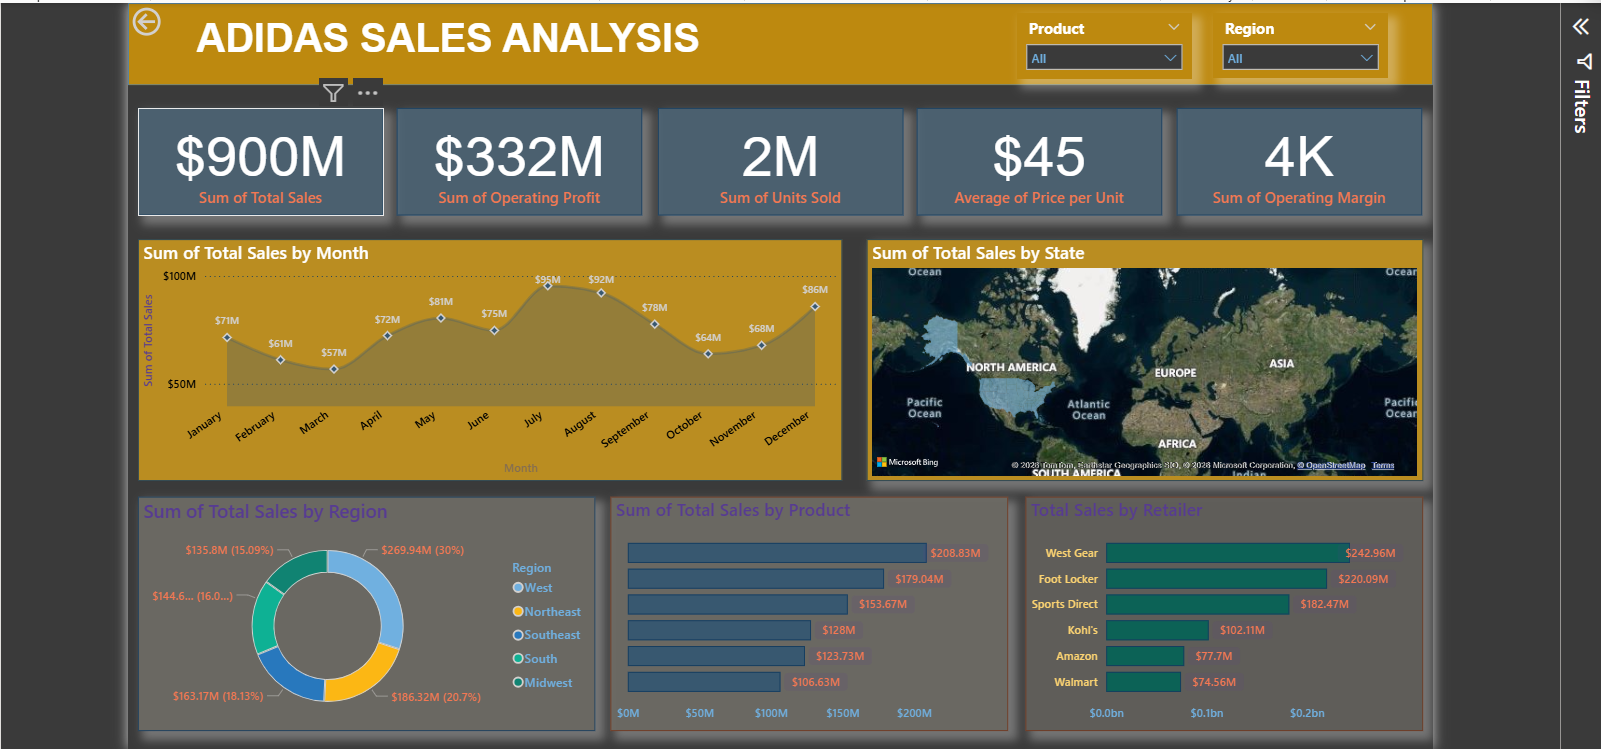

The page's visual inventory and layout, read from the dashboard file:
{"tool":"powerbi","page":{"name":"Page 1","canvas":[1400,800],"ordinal":0},"visuals":[{"type":"shape","box":[0,0,1399.5,88.3],"z":0},{"type":"textbox","box":[67.9,8.2,618.2,72],"z":1000},{"type":"actionButton","box":[0,0,100,40],"z":2000},{"type":"card","fields":{"Values":["Sum(Data Sales Adidas.Total Sales)"]},"box":[10.9,112.8,263.6,115.5],"z":3000},{"type":"card","fields":{"Values":["Sum(Data Sales Adidas.Operating Profit)"]},"box":[288,112.8,263.6,115.5],"z":4000},{"type":"card","fields":{"Values":["Sum(Data Sales Adidas.Units Sold)"]},"box":[567.9,112.8,263.6,115.5],"z":5000},{"type":"card","fields":{"Values":["Avg(Data Sales Adidas.Price per Unit)"]},"box":[846.5,112.8,263.6,115.5],"z":6000},{"type":"card","fields":{"Values":["Sum(Data Sales Adidas.Operating Margin)"]},"box":[1125,112.8,263.6,115.5],"z":7000},{"type":"areaChart","fields":{"Category":["Data Sales Adidas.Invoice Date.Variation.Date Hierarchy.Month"],"Y":["Sum(Data Sales Adidas.Total Sales)"]},"box":[10.9,252.7,755.4,259.5],"z":8000},{"type":"filledMap","fields":{"Category":["Data Sales Adidas.State"]},"box":[792.1,252.7,596.5,259.5],"z":9000},{"type":"donutChart","fields":{"Category":["Data Sales Adidas.Region"],"Y":["Sum(Data Sales Adidas.Total Sales)"]},"box":[10.9,529.9,490.5,251.4],"z":10000},{"type":"clusteredBarChart","fields":{"Y":["Sum(Data Sales Adidas.Total Sales)"],"Category":["Data Sales Adidas.Product"]},"box":[517.7,529.9,426.6,251.4],"z":11000},{"type":"clusteredBarChart","title":"Total Sales by Retailer","fields":{"Y":["Sum(Data Sales Adidas.Total Sales)"],"Category":["Data Sales Adidas.Retailer"]},"box":[962,529.9,426.6,251.4],"z":12000},{"type":"slicer","fields":{"Values":["Data Sales Adidas.Product"]},"box":[953.1,10.7,187.7,71],"z":13000},{"type":"slicer","fields":{"Values":["Data Sales Adidas.Region"]},"box":[1163.5,10.7,187.7,69.7],"z":14000}]}

Visuals, with their boxes in screenshot pixels (x1, y1, x2, y2):
shape: 129/0/1424/82
textbox: 192/8/764/74
actionButton: 129/0/222/37
card - Sum(Data Sales Adidas.Total Sales): 139/104/383/211
card - Sum(Data Sales Adidas.Operating Profit): 396/104/640/211
card - Sum(Data Sales Adidas.Units Sold): 655/104/898/211
card - Avg(Data Sales Adidas.Price per Unit): 912/104/1156/211
card - Sum(Data Sales Adidas.Operating Margin): 1170/104/1414/211
areaChart - Data Sales Adidas.Invoice Date.Variation.Date Hierarchy.Month x Sum(Data Sales Adidas.Total Sales): 139/234/838/474
filledMap - Data Sales Adidas.State: 862/234/1414/474
donutChart - Data Sales Adidas.Region x Sum(Data Sales Adidas.Total Sales): 139/490/593/723
clusteredBarChart - Sum(Data Sales Adidas.Total Sales) x Data Sales Adidas.Product: 608/490/1003/723
"Total Sales by Retailer" clusteredBarChart: 1019/490/1414/723
slicer - Data Sales Adidas.Product: 1011/10/1185/76
slicer - Data Sales Adidas.Region: 1206/10/1379/74
